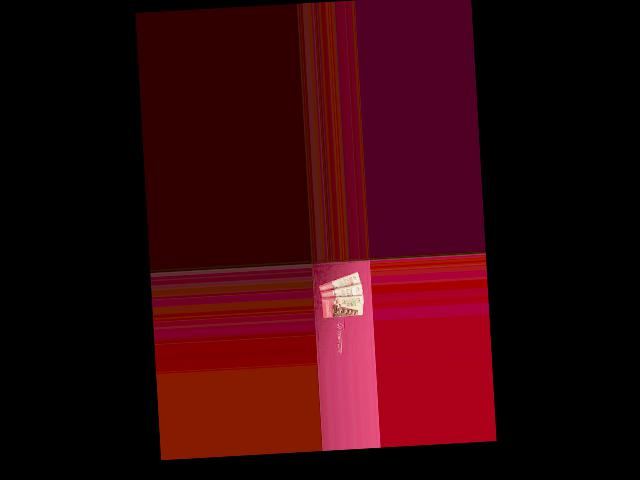chocolate: (316, 272, 363, 295)
